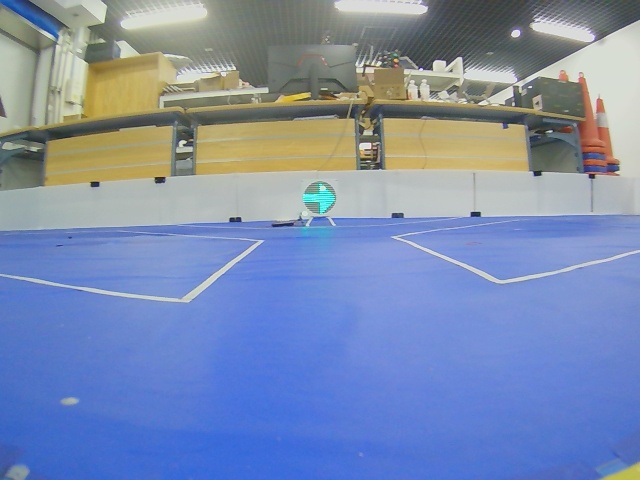right_green: (302, 181, 336, 215)
